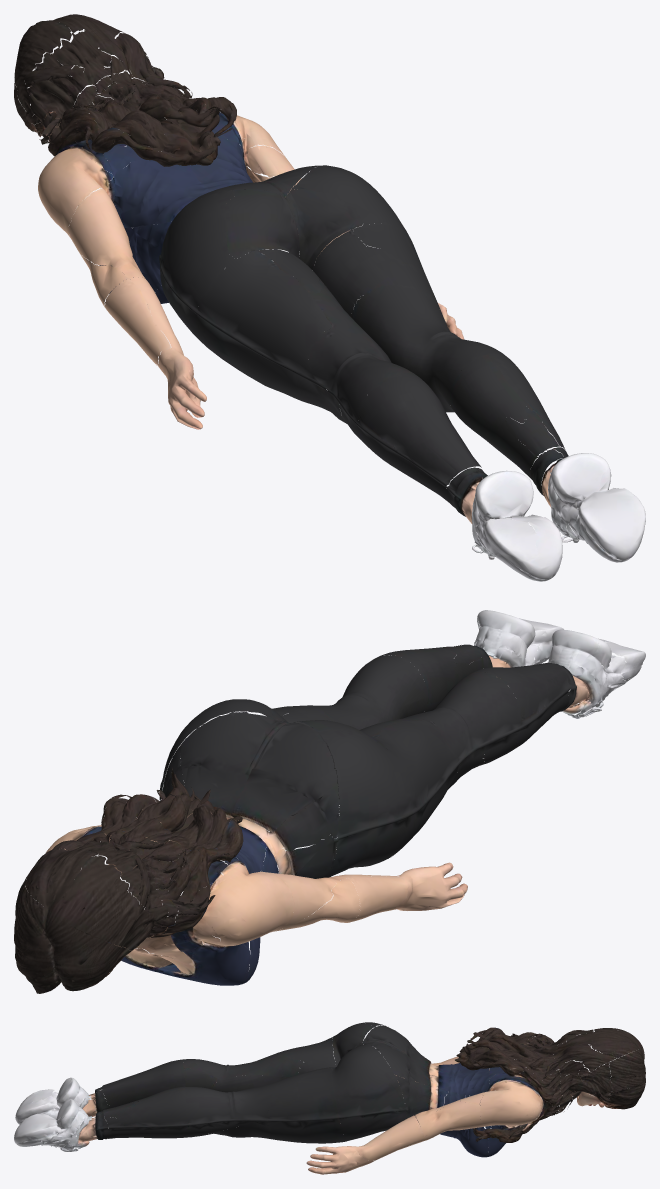
File: patient11.glb
3 renders of one model, top to bottom at view 1: azimuth 30°, elevation 25°; view 2: azimuth 150°, elevation 25°; view 3: azimuth 270°, elevation 25°, orthographic. The views are drawn at different scales.
Parts seen in each view (by area): view 1: back_patient_skin; view 2: back_patient_skin; view 3: back_patient_skin.
Boxes of the visible parts, <box> form: back_patient_skin: <box>14,14,645,581</box>; back_patient_skin: <box>14,610,645,993</box>; back_patient_skin: <box>14,1022,645,1174</box>.
Bounding box in the file's own units: 0.5068 × 0.3276 × 1.7.
1 material, 1 textured.
